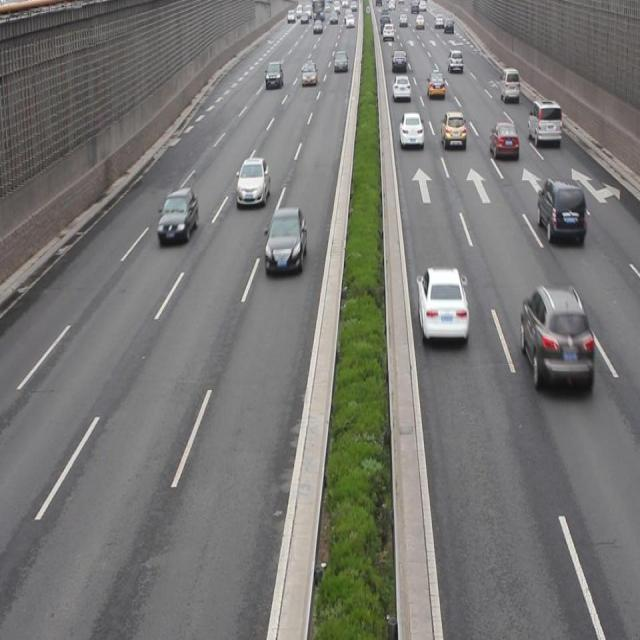car: (520, 286, 594, 394), (416, 266, 469, 346), (535, 176, 584, 246), (264, 210, 305, 277), (156, 189, 198, 244), (527, 101, 561, 143), (237, 160, 268, 206), (488, 121, 518, 163), (396, 110, 424, 148), (440, 110, 464, 151)
